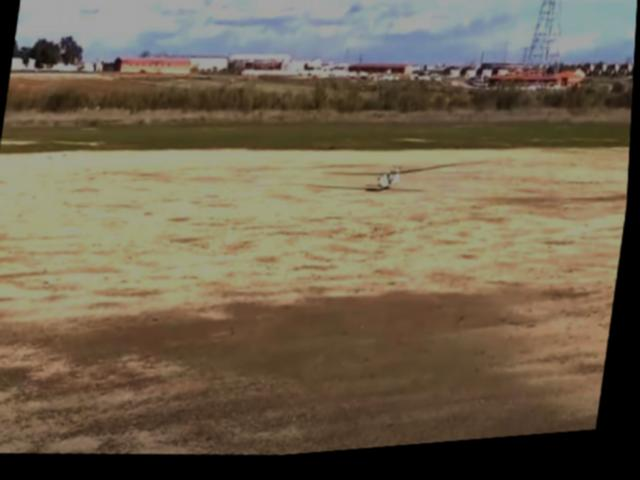iha: (317, 148, 475, 205)
